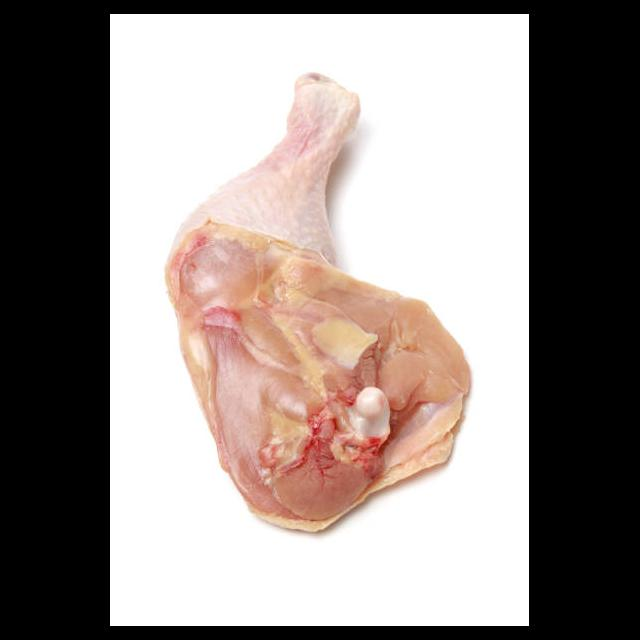chicken: (163, 69, 474, 536)
